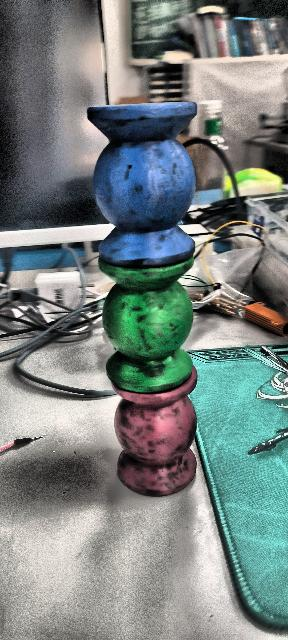blue: (86, 101, 198, 267)
green: (101, 258, 198, 398)
red: (106, 376, 202, 502)
